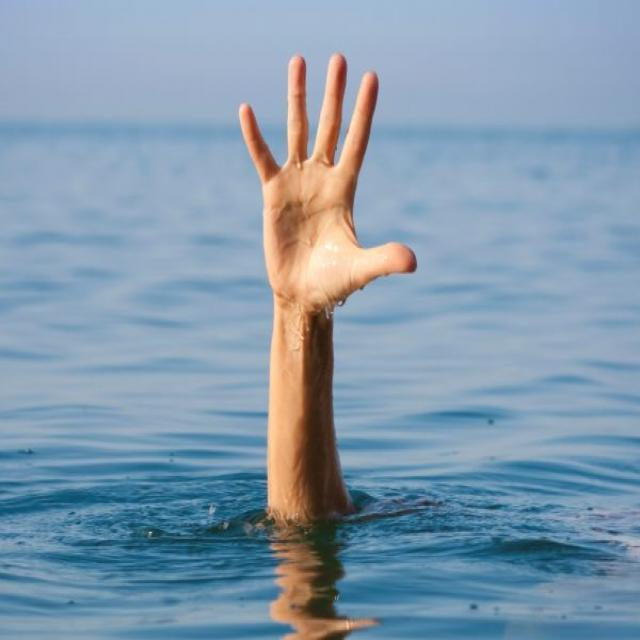Out of Water: (231, 46, 418, 524)
